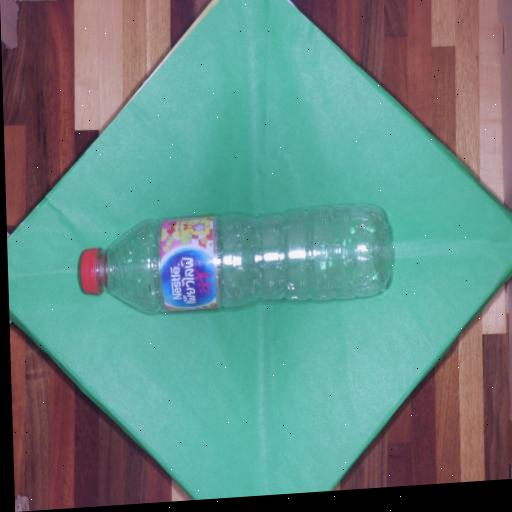bottle: (81, 205, 389, 312)
